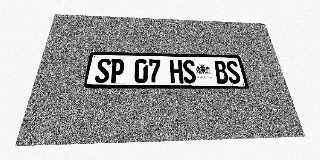0: (134, 59, 148, 83)
7: (148, 59, 161, 83)
B: (213, 60, 229, 83)
H: (170, 60, 184, 83)
P: (109, 59, 125, 83)
S: (94, 58, 111, 83), (225, 61, 242, 84), (182, 60, 197, 83)
